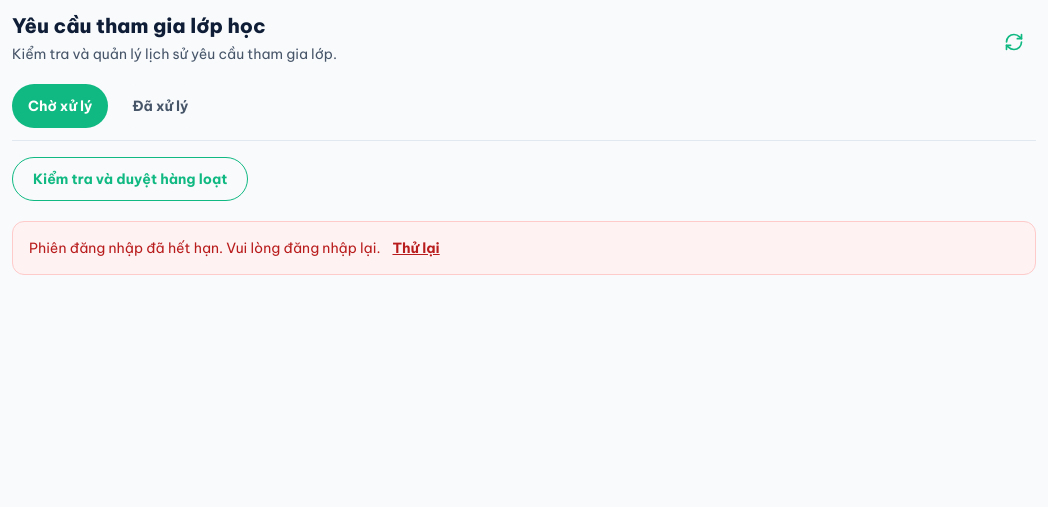
it: teacher join request management › shows GET 401 error and retries
Expected: the message "Phiên đăng nhập đã hết hạn. Vui lòng đăng nhập lại. Thử lại" is shown, left=12, top=221, right=1036, bottom=275
Click the button "Thử lại" at (416, 248), box left=392, top=238, right=440, bottom=258
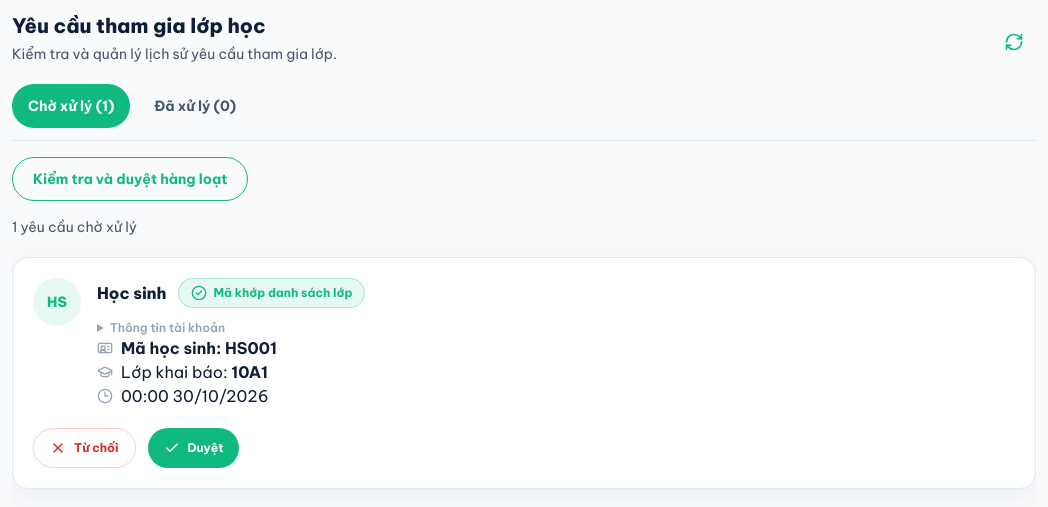
Expected: the text "Học sinh" is shown, left=97, top=281, right=166, bottom=305
